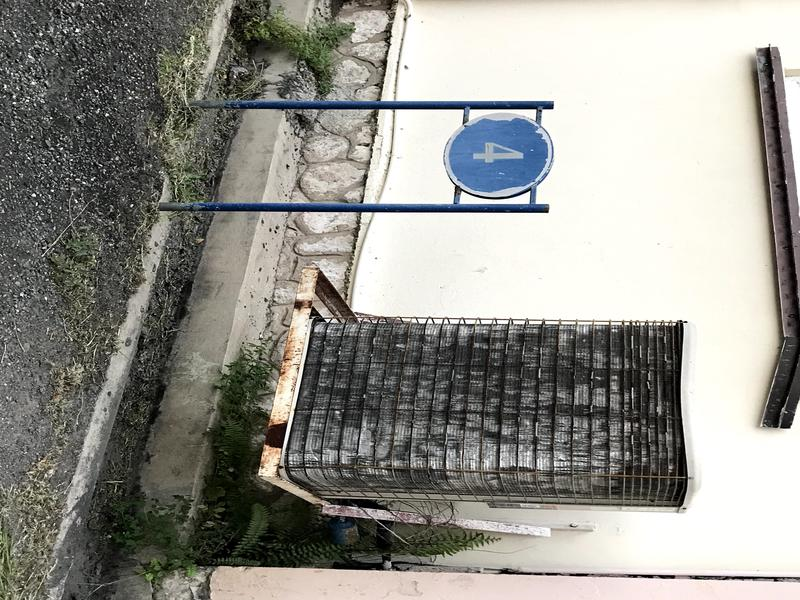18.0053530_-76.7490375_signatentrancetoscitech: (153, 76, 607, 230)
